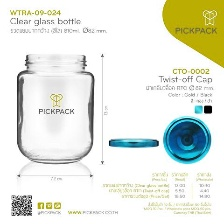bottle: (11, 47, 97, 166)
